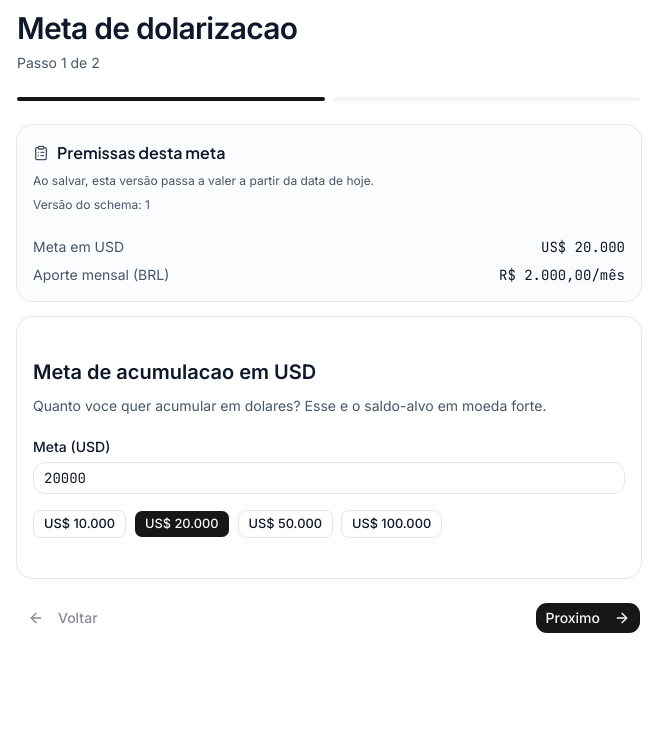
Test: Meta de dolarização — horizonte pt-BR › wizard: estimativa e revisão do passo 2 usam vírgula
Click the button "Proximo" at (588,618), box top-left (534, 602), bottom-right (641, 634)
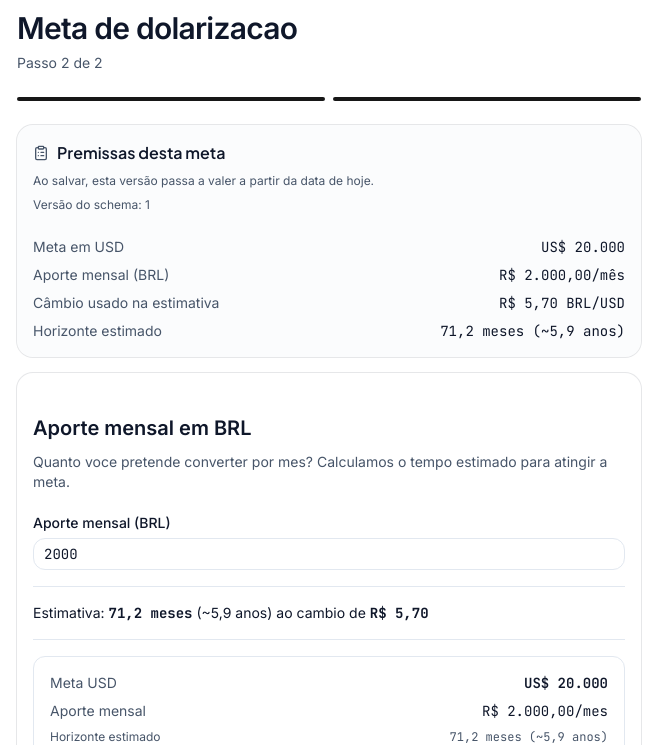
Expected: the text "71,2 meses (~5,9 anos)" is shown 2 times, top-left (440, 321), bottom-right (625, 341); top-left (450, 729), bottom-right (608, 744)
Expected: the text "71,2 meses" is shown, top-left (108, 604), bottom-right (192, 622)
